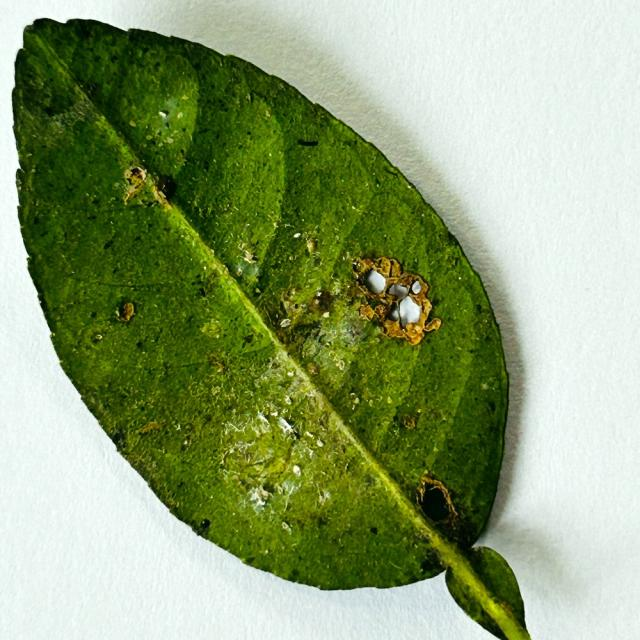Bacterial_Blight: (354, 257, 441, 343), (274, 279, 349, 344), (414, 473, 461, 529), (88, 299, 143, 346), (353, 256, 400, 300), (402, 403, 445, 436), (112, 294, 141, 328), (155, 173, 177, 201), (312, 288, 334, 314), (177, 421, 197, 446), (396, 412, 419, 430), (78, 80, 99, 98), (111, 428, 127, 451), (126, 165, 146, 183), (207, 355, 226, 373), (281, 416, 297, 437), (193, 518, 211, 536), (296, 138, 320, 147), (262, 482, 278, 495), (318, 412, 330, 429), (43, 104, 58, 117), (306, 363, 319, 376), (242, 333, 255, 345), (447, 254, 459, 267), (307, 239, 318, 253), (103, 239, 115, 250), (487, 400, 496, 413), (92, 333, 103, 343), (202, 159, 210, 172), (271, 359, 281, 369), (198, 286, 207, 297), (369, 526, 378, 535), (253, 286, 262, 295), (32, 216, 40, 226), (90, 311, 98, 319), (294, 303, 300, 309)
Lemon: (11, 17, 531, 639)
